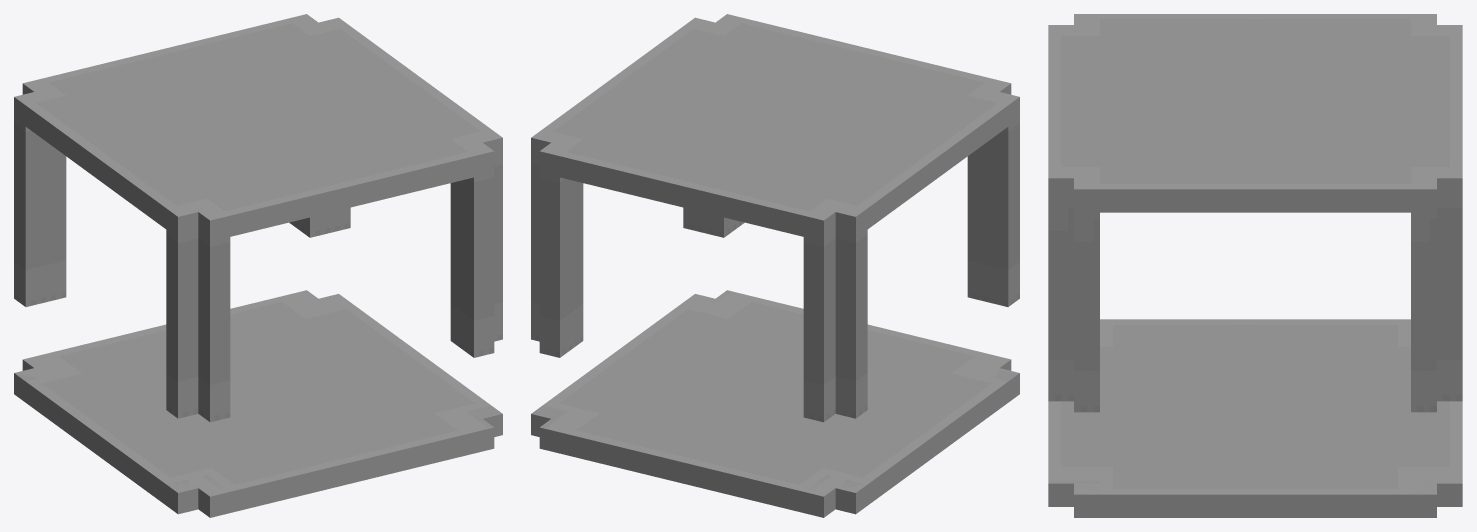
The model's file is vent_X.fbx.
3 renders of one model, left to right at view 1: azimuth 30°, elevation 25°; view 2: azimuth 150°, elevation 25°; view 3: azimuth 270°, elevation 25°, orthographic. The views are drawn at different scales.
Visible parts, largest first — view 1: cube, cube_5, cube_1, cube_11, cube_10, cube_8, cube_12, cube_13, cube_3, cube_2, cube_9, cube_4 (+1 smaller); view 2: cube, cube_5, cube_6, cube_11, cube_10, cube_9, cube_13, cube_12, cube_3, cube_2, cube_8, cube_7 (+1 smaller); view 3: cube, cube_5, cube_3, cube_2, cube_1, cube_6, cube_4, cube_7, cube_11, cube_10.
Boxes of the visible parts, x1,y1,x2,y2 form: cube: [22, 14, 494, 241]; cube_5: [22, 290, 494, 517]; cube_1: [450, 172, 494, 430]; cube_11: [14, 92, 198, 237]; cube_10: [14, 368, 198, 514]; cube_8: [187, 233, 230, 496]; cube_12: [166, 230, 198, 492]; cube_13: [14, 118, 45, 381]; cube_3: [319, 17, 502, 160]; cube_2: [319, 294, 502, 436]; cube_9: [24, 142, 66, 360]; cube_4: [471, 159, 502, 418]; cube: [539, 14, 1011, 241]; cube_5: [539, 290, 1011, 517]; cube_6: [539, 172, 583, 428]; cube_11: [835, 92, 1019, 237]; cube_10: [835, 368, 1019, 514]; cube_9: [803, 233, 846, 495]; cube_13: [835, 230, 867, 492]; cube_12: [988, 118, 1019, 381]; cube_3: [531, 17, 714, 160]; cube_2: [531, 294, 714, 436]; cube_8: [967, 142, 1009, 362]; cube_7: [531, 159, 562, 418]; cube: [1048, 25, 1462, 201]; cube_5: [1048, 330, 1462, 506]; cube_3: [1074, 178, 1436, 212]; cube_2: [1074, 483, 1436, 517]; cube_1: [1048, 201, 1099, 483]; cube_6: [1411, 201, 1462, 483]; cube_4: [1074, 212, 1099, 494]; cube_7: [1411, 212, 1436, 494]; cube_11: [1074, 14, 1436, 24]; cube_10: [1100, 319, 1410, 330].
Size of the model in its own units: 100 by 87.5 by 100.
